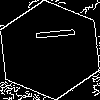I: (25, 25, 76, 44)
